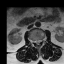CCS_normal: (37, 38, 39, 46)
LFS_stenosis: (40, 38, 42, 43)
LLS_normal: (39, 38, 40, 44)
RFS_stenosis: (33, 39, 35, 44)
RLS_normal: (35, 39, 37, 44)
